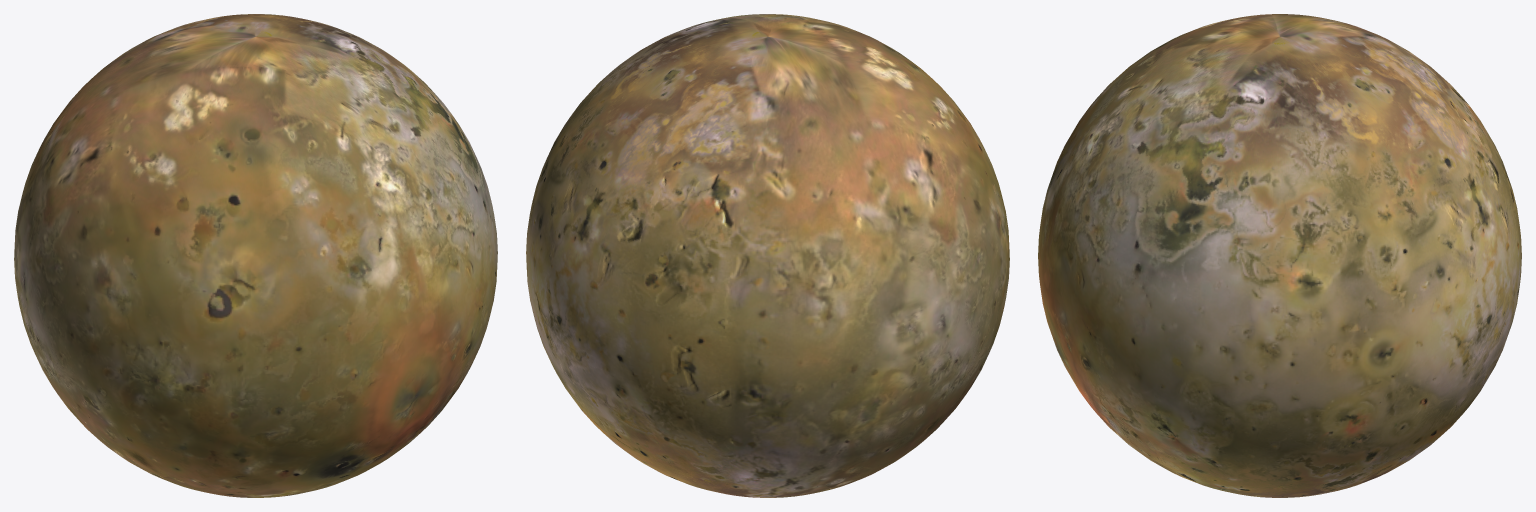
File: ball-io.glb
3 views of the same model, side by side, from view 1: azimuth 30°, elevation 25°; view 2: azimuth 150°, elevation 25°; view 3: azimuth 270°, elevation 25° (orthographic).
Parts seen in each view (by area): view 1: voyager2; view 2: voyager2; view 3: voyager2.
Part boxes in pixels (x1,y1,x2,y2): voyager2: (14, 14, 497, 497); voyager2: (526, 14, 1009, 497); voyager2: (1038, 14, 1521, 497).
Bounding box in the file's own units: 2 × 2 × 2.
1 material, 1 textured.
